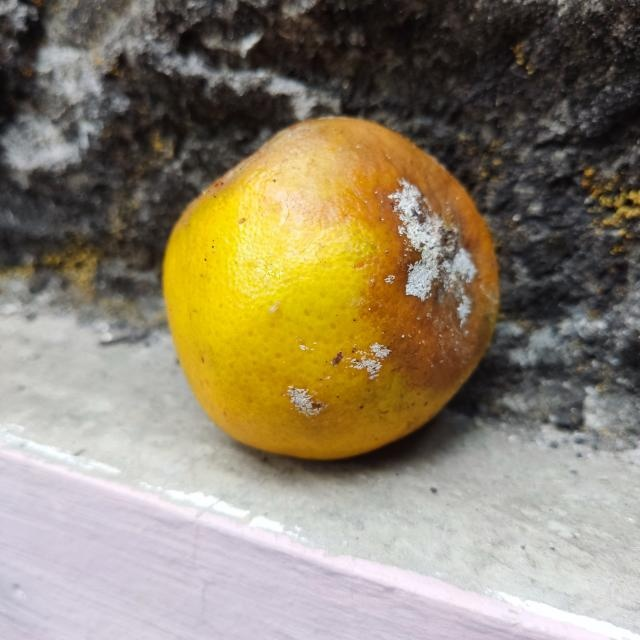agrume: (160, 115, 501, 457)
